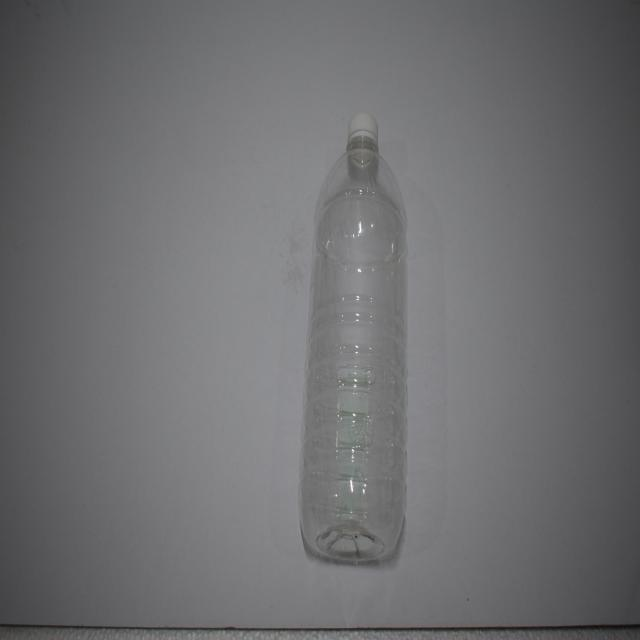bottle: (288, 111, 426, 582)
